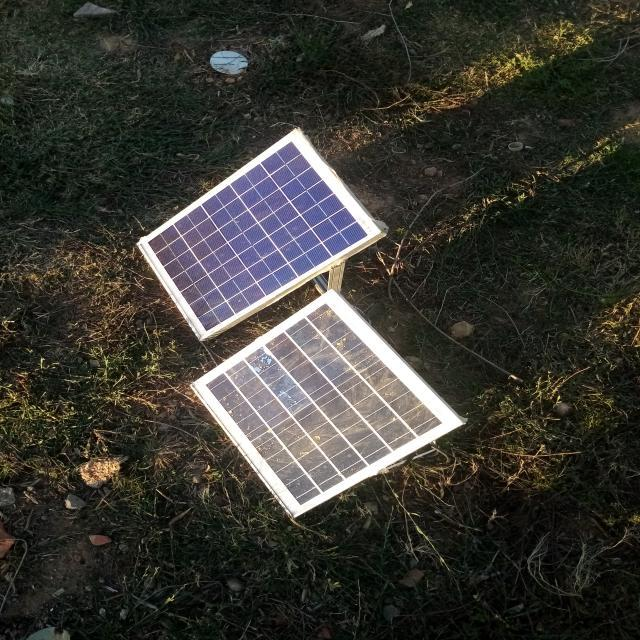faulty: (195, 292, 466, 516)
no faulty: (137, 128, 382, 339)
